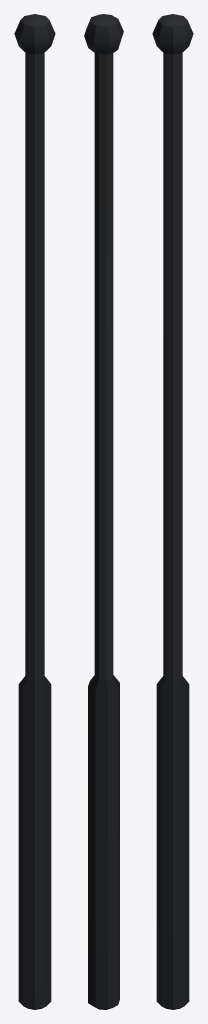
Rendered from SM_Prop_Pointer_01.fbx.
The picture shows the model from 3 angles, left to right: view 1: azimuth 90°, elevation 25°; view 2: azimuth 150°, elevation 25°; view 3: azimuth 270°, elevation 25°; orthographic projection.
Parts seen in each view (by area): view 1: SM_Prop_Pointer_01; view 2: SM_Prop_Pointer_01; view 3: SM_Prop_Pointer_01.
Boxes of the visible parts, box(x1,y1,x2,y2) form: SM_Prop_Pointer_01: box(14, 14, 55, 1009); SM_Prop_Pointer_01: box(84, 14, 123, 1009); SM_Prop_Pointer_01: box(152, 14, 193, 1009).
Bounding box in the file's own units: 3.6 × 95.78 × 3.6.
1 material, 1 textured.
